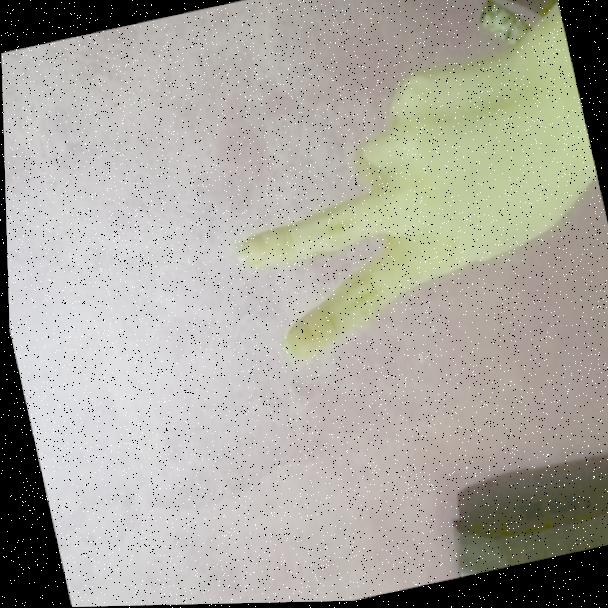two: (203, 52, 572, 370)
